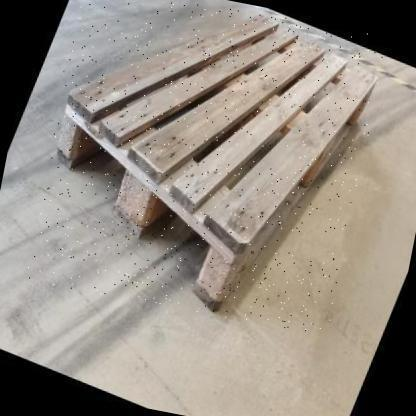pallet: (52, 11, 385, 309)
